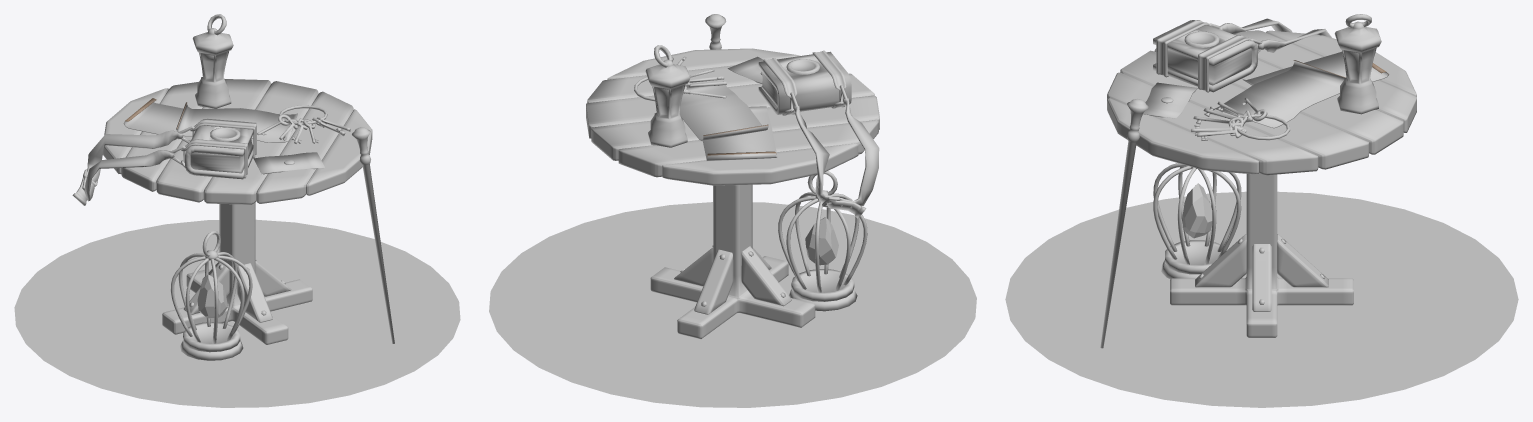
Rendered from wizardsetup1.fbx.
The picture shows the model from 3 angles, left to right: view 1: azimuth 30°, elevation 25°; view 2: azimuth 150°, elevation 25°; view 3: azimuth 270°, elevation 25°; orthographic projection. The views are drawn at different scales.
Visible parts, largest first — view 1: carpet, Cylinder.001, Cylinder, Letters, Straps.001, Lantern, Book_Cover, cane, Straps, Book_Pages, crystal; view 2: carpet, Cylinder.001, Letters, Cylinder, Lantern, Book_Cover, Straps.001, Straps, crystal, cane, Key_Gold; view 3: carpet, Cylinder.001, Letters, Cylinder, Lantern, Book_Cover, cane, Straps, Book_Pages, crystal, Straps.001, Key_Gold.
Part boxes in pixels (bbox=[...]): carpet: bbox=[14, 219, 460, 407]; Cylinder.001: bbox=[102, 79, 372, 344]; Cylinder: bbox=[170, 230, 252, 360]; Letters: bbox=[123, 98, 324, 174]; Straps.001: bbox=[72, 130, 183, 205]; Lantern: bbox=[192, 14, 233, 108]; Book_Cover: bbox=[185, 118, 256, 179]; cane: bbox=[352, 127, 394, 343]; Straps: bbox=[170, 119, 256, 178]; Book_Pages: bbox=[190, 139, 253, 173]; crystal: bbox=[197, 274, 227, 318]; carpet: bbox=[489, 202, 976, 407]; Cylinder.001: bbox=[586, 48, 879, 338]; Letters: bbox=[679, 56, 777, 160]; Cylinder: bbox=[778, 171, 867, 311]; Lantern: bbox=[645, 45, 690, 147]; Book_Cover: bbox=[758, 51, 851, 114]; Straps.001: bbox=[793, 98, 879, 218]; Straps: bbox=[763, 50, 847, 115]; crystal: bbox=[805, 217, 838, 265]; cane: bbox=[705, 14, 726, 212]; Key_Gold: bbox=[786, 59, 819, 74]; carpet: bbox=[1005, 191, 1518, 407]; Cylinder.001: bbox=[1107, 30, 1416, 337]; Letters: bbox=[1143, 51, 1389, 128]; Cylinder: bbox=[1153, 163, 1241, 278]; Lantern: bbox=[1334, 14, 1381, 114]; Book_Cover: bbox=[1153, 20, 1257, 92]; cane: bbox=[1100, 99, 1148, 348]; Straps: bbox=[1156, 20, 1262, 92]; Book_Pages: bbox=[1167, 48, 1251, 85]; crystal: bbox=[1182, 183, 1212, 238]; Straps.001: bbox=[1219, 18, 1331, 52]; Key_Gold: bbox=[1184, 31, 1219, 47].
Bounding box in the file's own units: 542 × 350 × 542.
